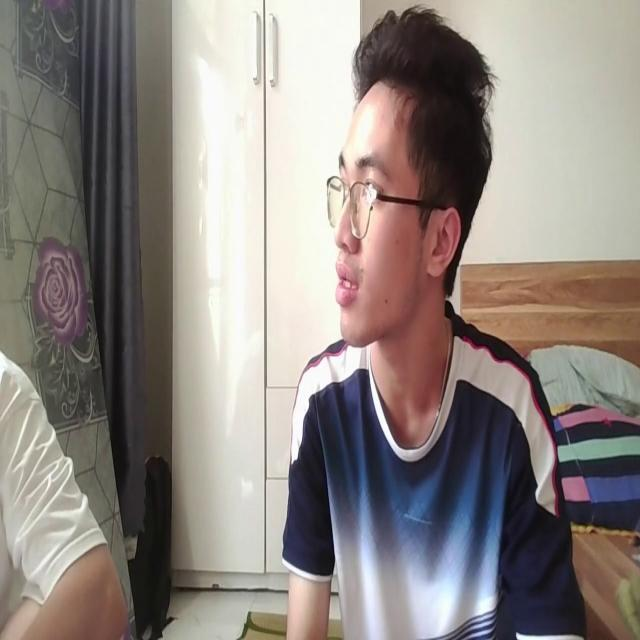extra_person: (0, 344, 130, 640)
student: (283, 6, 582, 640)
